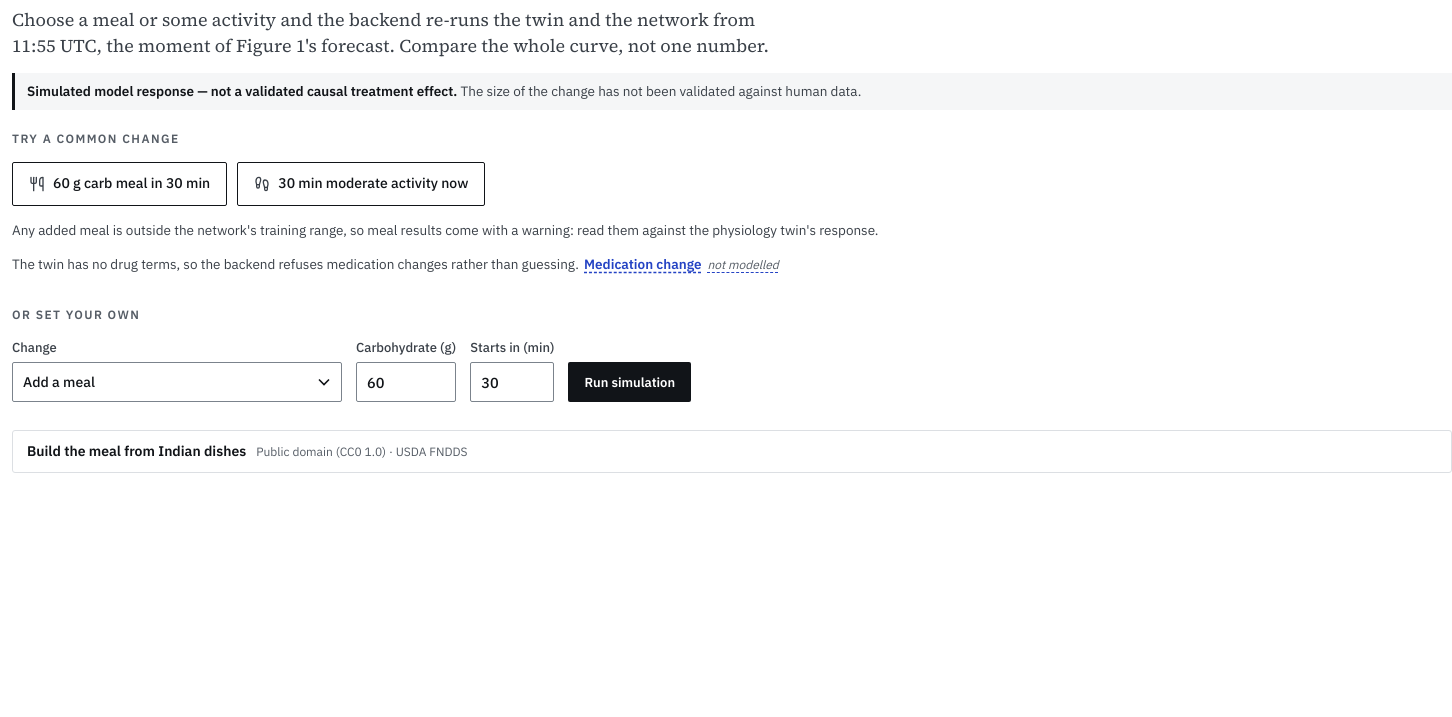
Test: ScenarioEditor — backend-driven what-if › explains when the network changes the curve far less than the physiology twin does
Step 1. Click the button "Run simulation" → click(630, 382), box [568, 362, 691, 402]
(page scrolled)
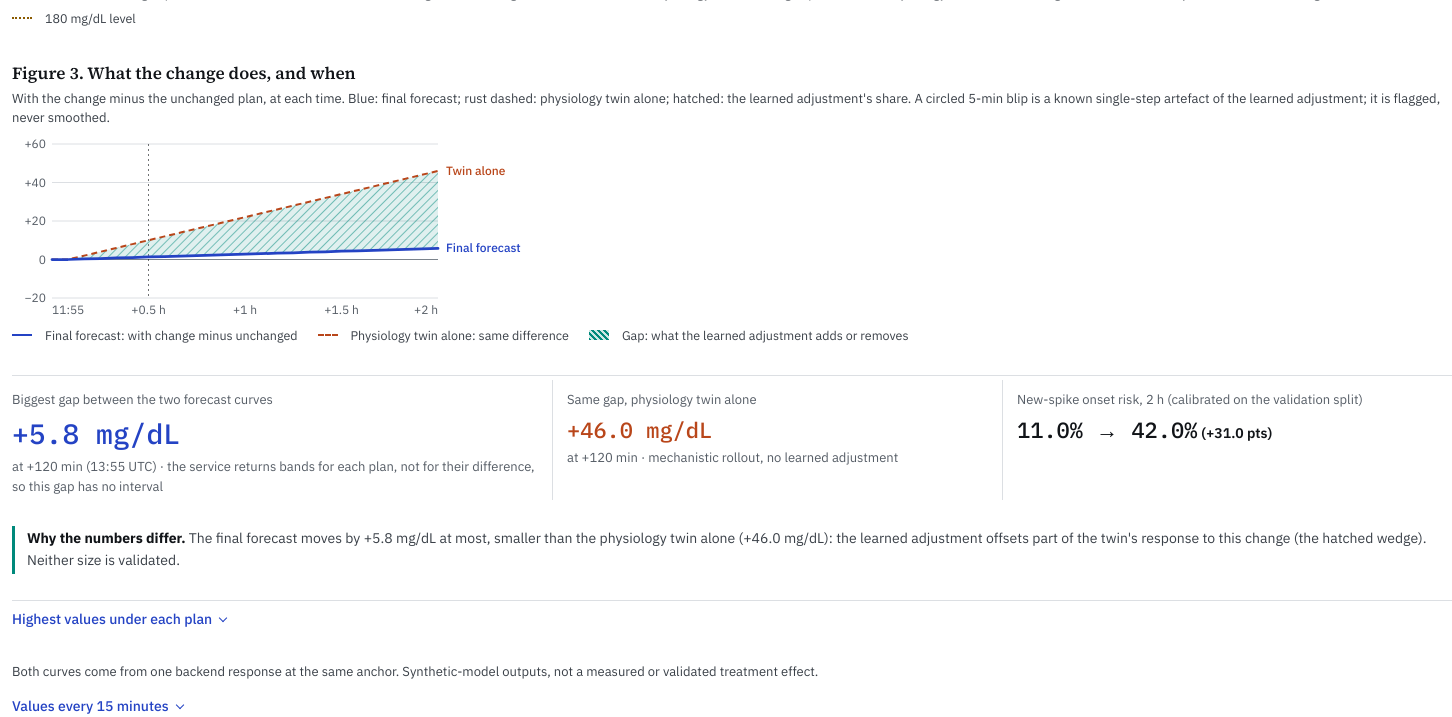
Expected: the element with test id "scenario-twin-gap" shows "smaller than the physiology twin alone", [436, 529, 743, 547]
